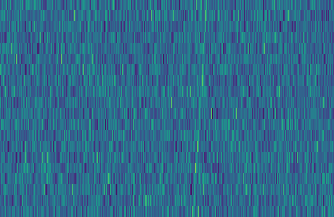signal: (188, 0, 212, 217)
